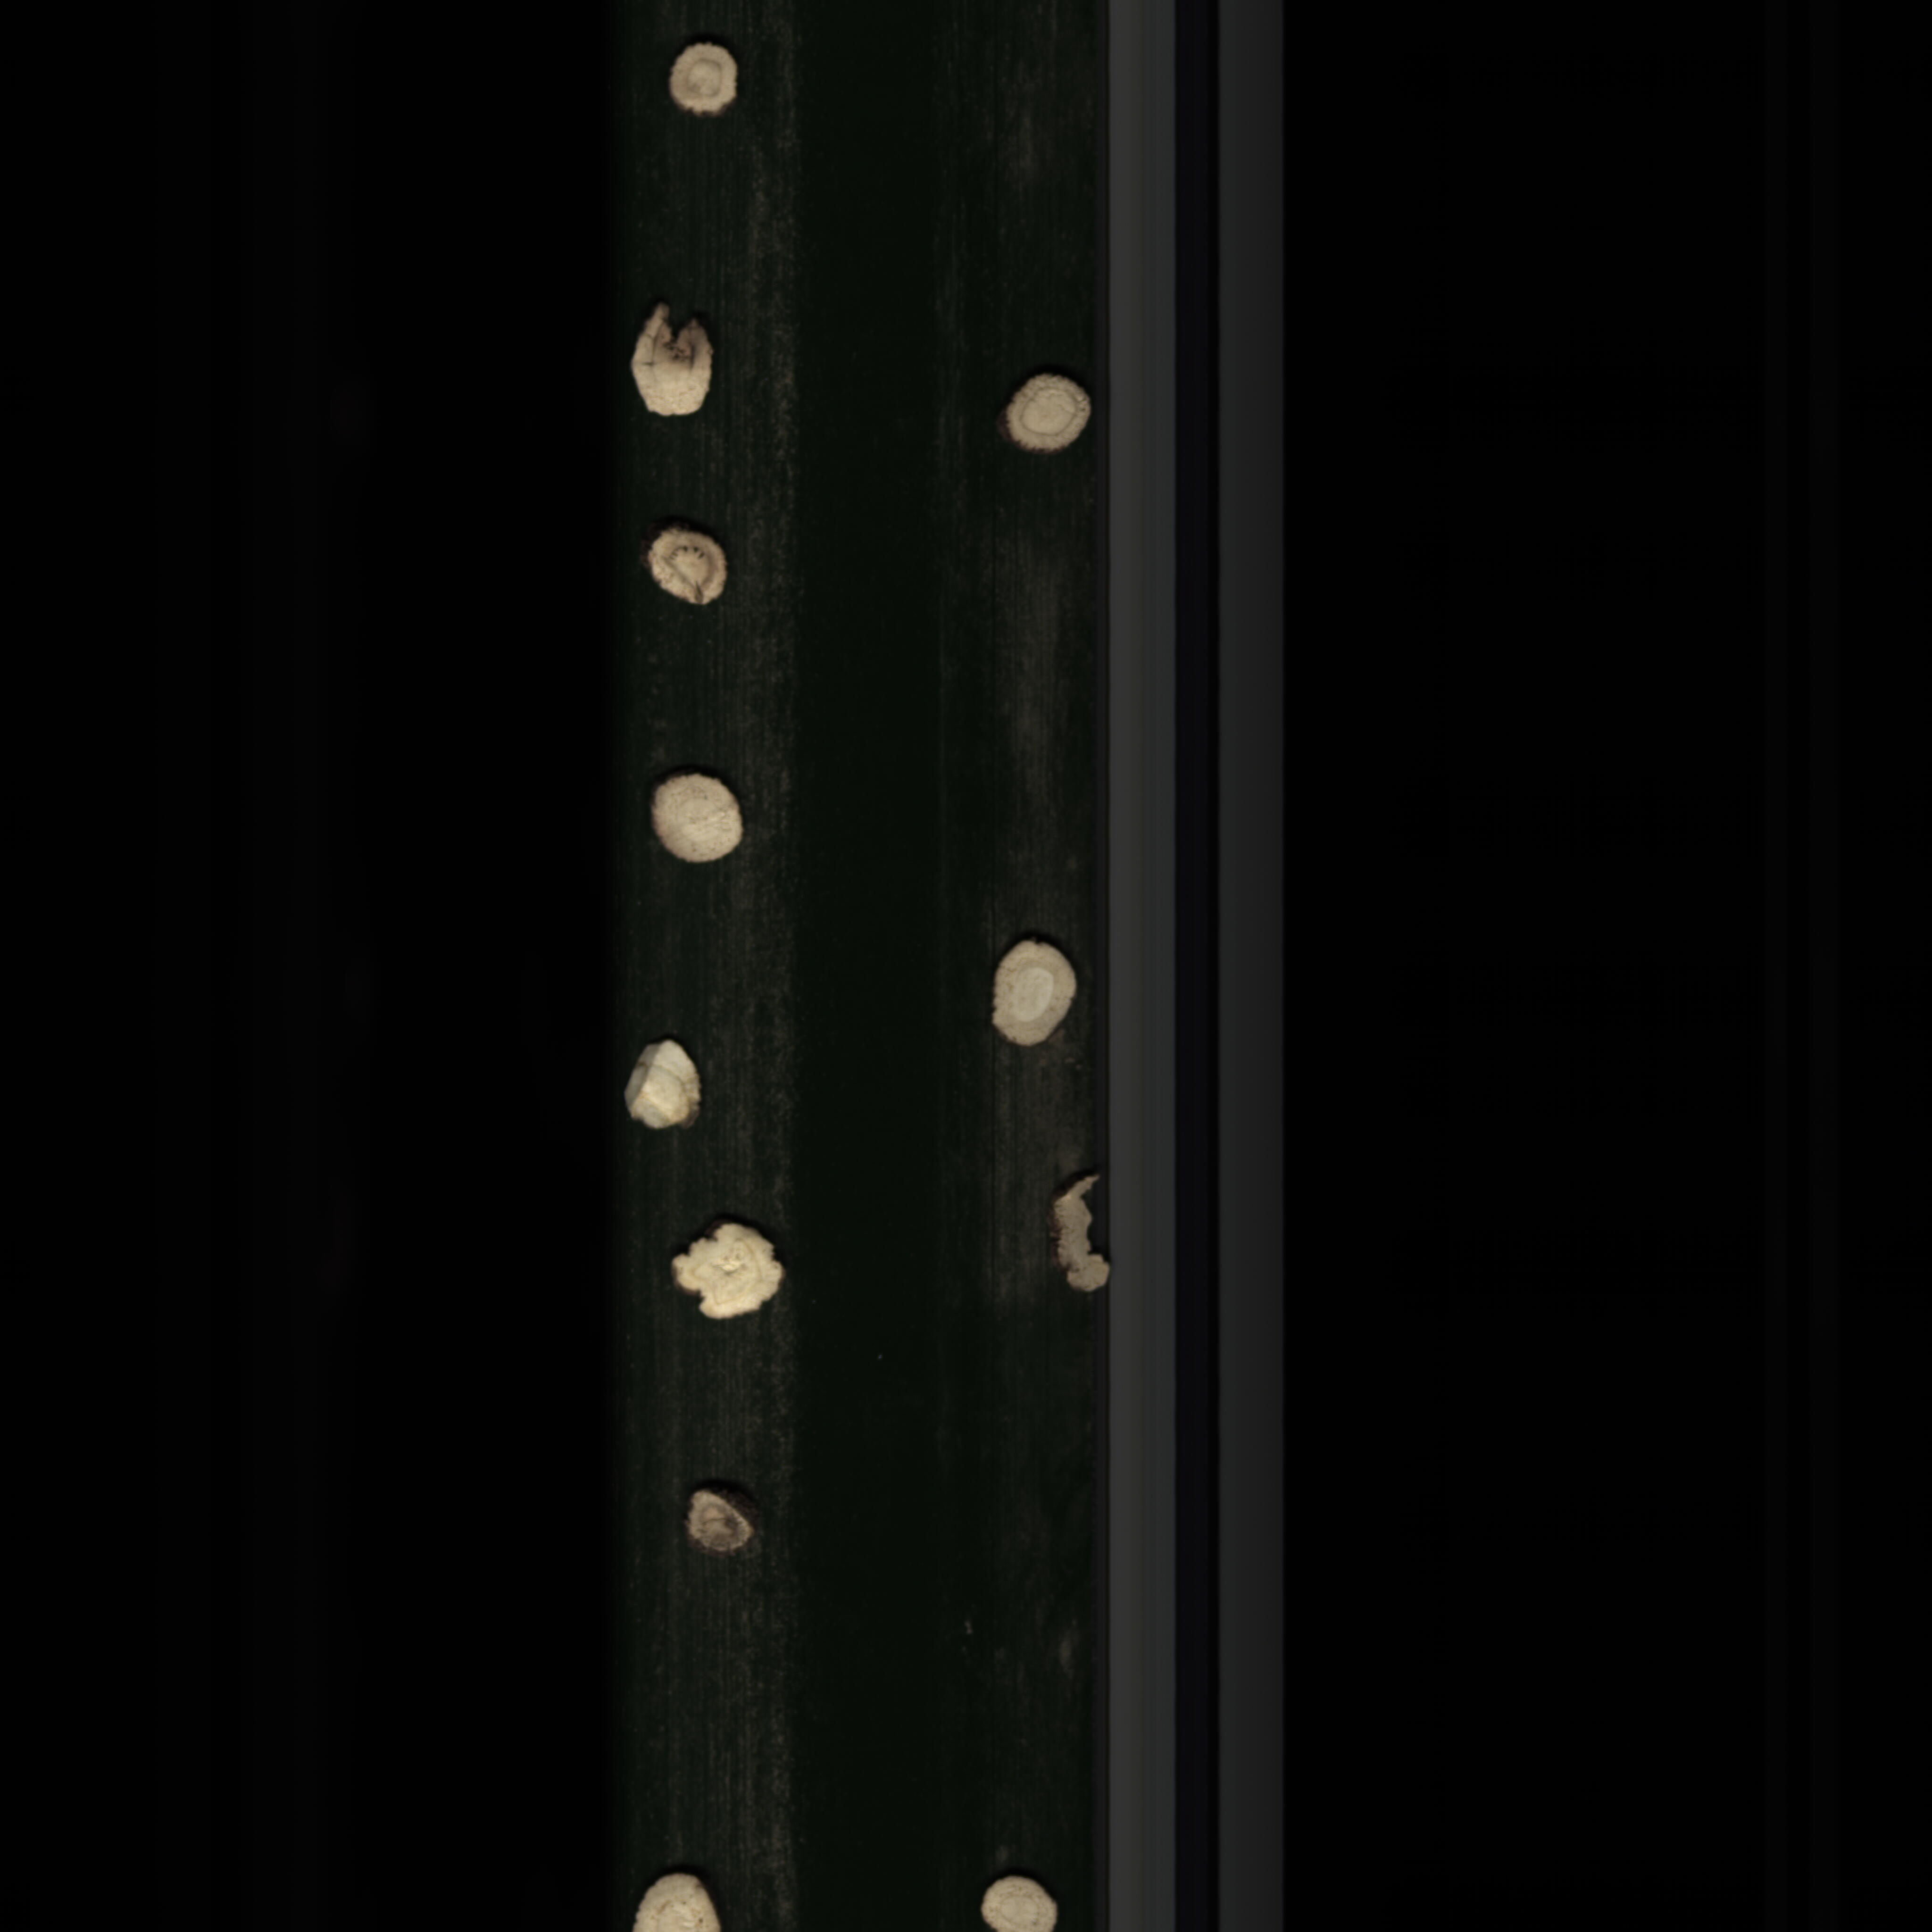debris: (625, 288, 727, 441), (1037, 1166, 1123, 1299), (619, 1028, 713, 1146)
distortion: (660, 1215, 805, 1325)
moldy: (676, 1484, 773, 1573)
